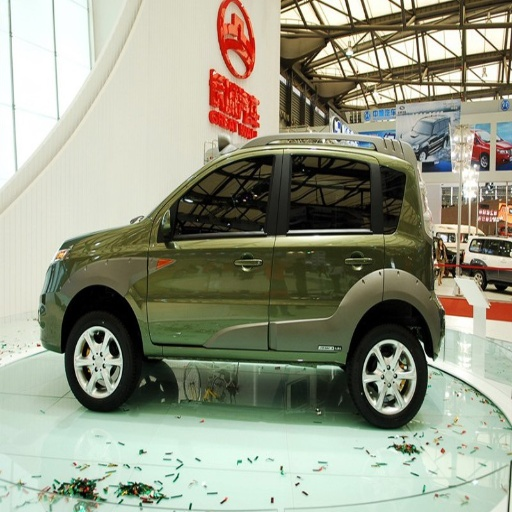front_left_door: (149, 145, 281, 355)
